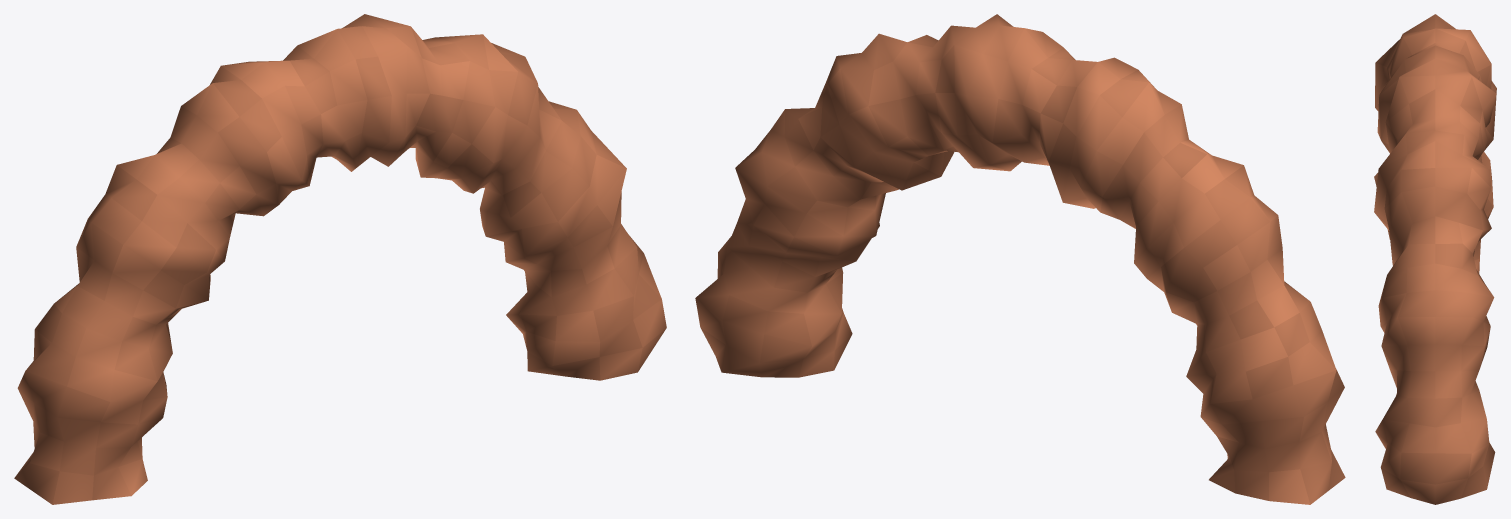
Rendered from canyon-arch.glb.
3 views of the same model, side by side, from view 1: azimuth 30°, elevation 25°; view 2: azimuth 150°, elevation 25°; view 3: azimuth 270°, elevation 25° (orthographic). The views are drawn at different scales.
Parts seen in each view (by area): view 1: canyon-arch; view 2: canyon-arch; view 3: canyon-arch.
Part boxes in pixels (<box>): canyon-arch: <box>14,14,666,504</box>; canyon-arch: <box>695,14,1345,504</box>; canyon-arch: <box>1374,14,1496,504</box>.
Size of the model in its own units: 171 by 99.79 by 33.58.
